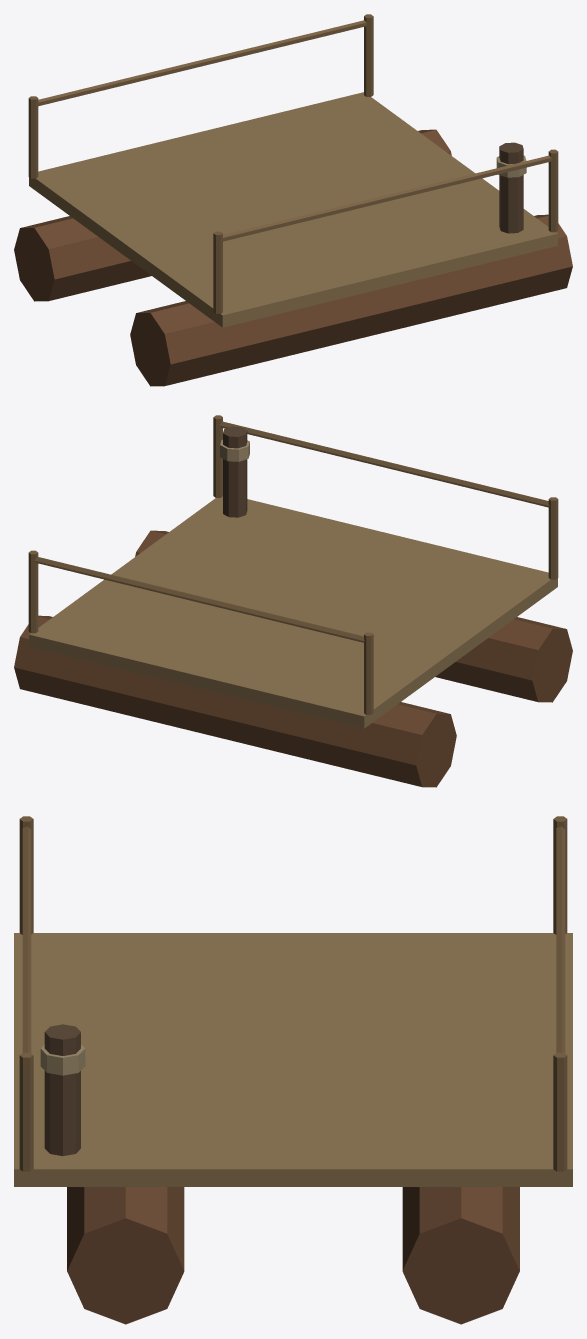
The model's file is K_DockPlatform.glb.
The picture shows the model from 3 angles, top to bottom: view 1: azimuth 30°, elevation 25°; view 2: azimuth 150°, elevation 25°; view 3: azimuth 270°, elevation 25°; orthographic projection. The views are drawn at different scales.
Parts seen in each view (by area): view 1: K_DockPlatform; view 2: K_DockPlatform; view 3: K_DockPlatform.
Boxes of the visible parts, x1,y1,x2,y2 form: K_DockPlatform: [14, 14, 572, 386]; K_DockPlatform: [14, 415, 572, 787]; K_DockPlatform: [14, 816, 572, 1324].
Size of the model in its own units: 4.8 by 1.96 by 4.
